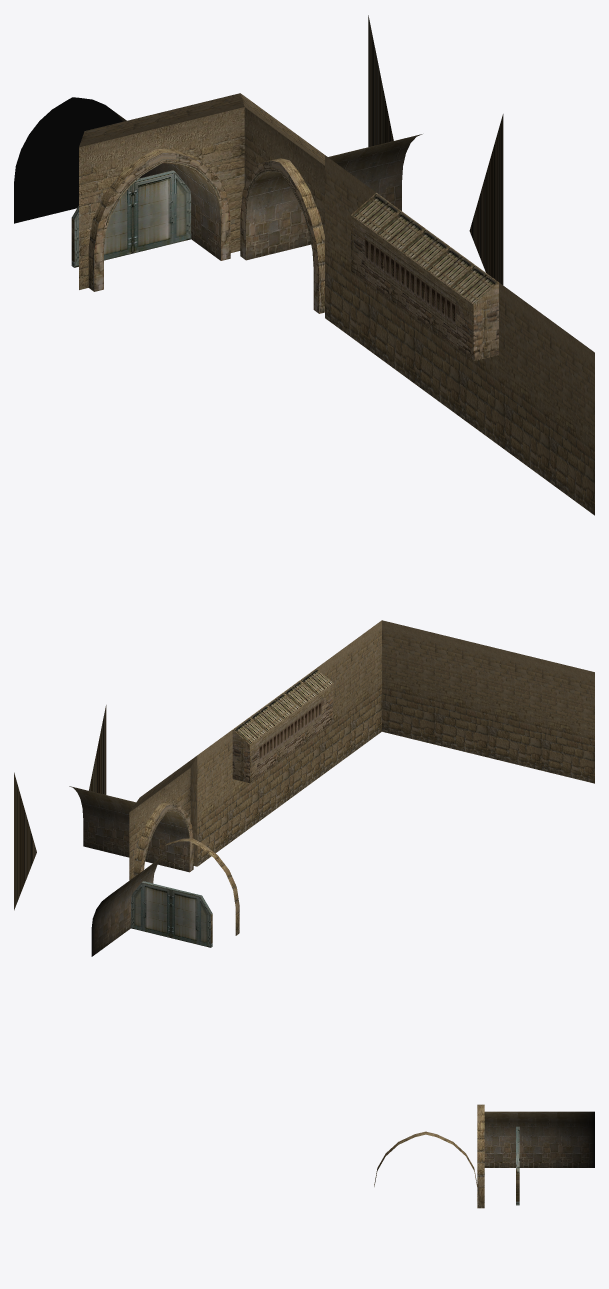
Rendered from M7Z2_WallSection3.glb.
3 renders of one model, top to bottom at view 1: azimuth 30°, elevation 25°; view 2: azimuth 150°, elevation 25°; view 3: azimuth 270°, elevation 25°, orthographic. The views are drawn at different scales.
Parts seen in each view (by area): view 1: M7Z2_WALLSECTION3; view 2: M7Z2_WALLSECTION3; view 3: M7Z2_WALLSECTION3.
Boxes of the visible parts, left/top/right/bottom form: M7Z2_WALLSECTION3: left=14, top=15, right=594, bottom=515; M7Z2_WALLSECTION3: left=14, top=620, right=594, bottom=956; M7Z2_WALLSECTION3: left=374, top=1104, right=594, bottom=1208.
Bounding box in the file's own units: 24 × 10 × 39.5.
Materials: 7 (7 with a texture image).
